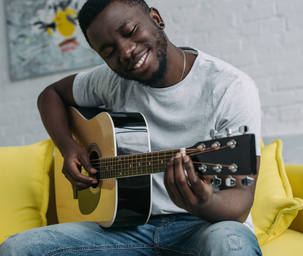fretboard: (99, 148, 181, 179)
